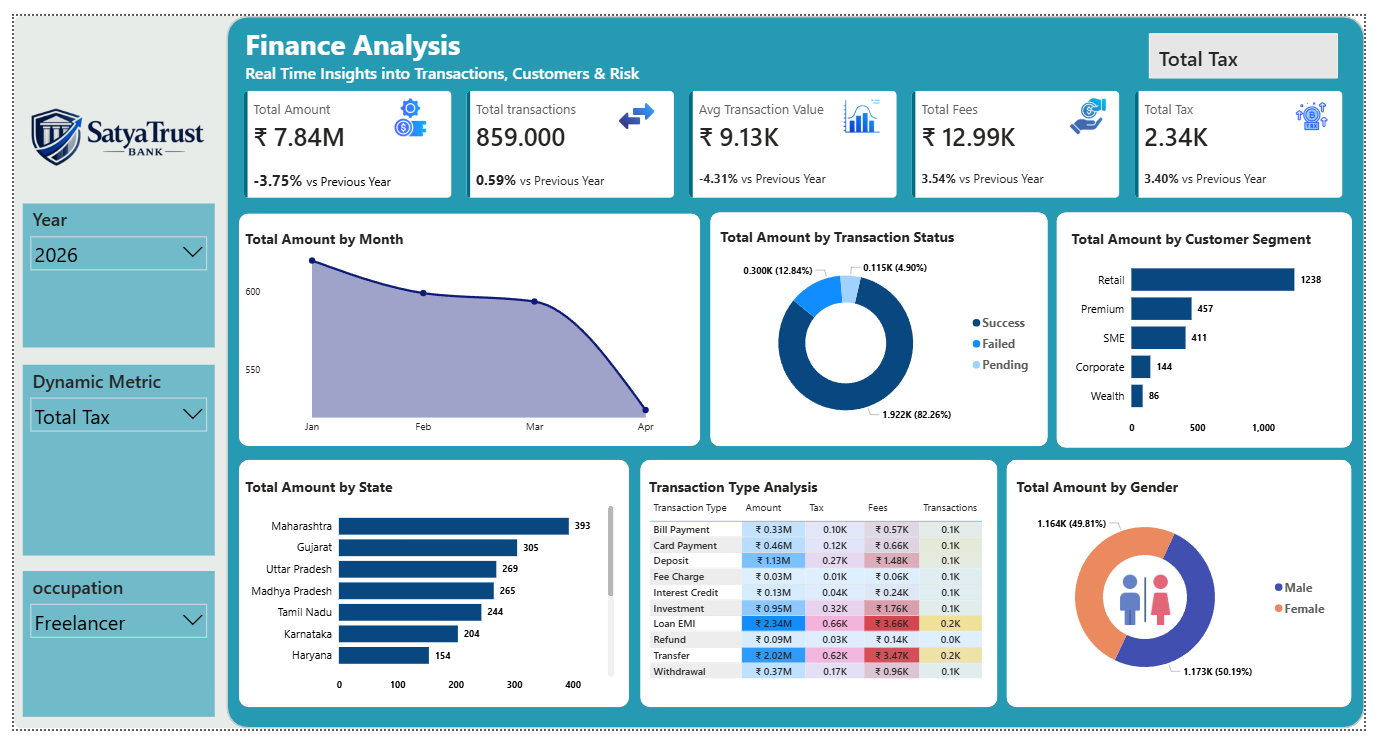

This screenshot's page, from the dashboard's own definition file:
{"tool":"powerbi","page":{"name":"Finance Analysis","canvas":[1800,950],"ordinal":0},"visuals":[{"type":"shape","box":[0,0,326,950],"z":0},{"type":"shape","box":[282.5,0,1517.5,950],"z":1000},{"type":"textbox","box":[304,6,578,88],"z":2000},{"type":"image","box":[12,6,250,306],"z":3000},{"type":"cardVisual","fields":{"Data":["finance_transactions.Total Amount","finance_transactions.Total transactions","finance_transactions.avg transaction value","finance_transactions.Total Fees","finance_transactions.Total Tax"]},"box":[300,93.8,1478.8,155],"z":4000},{"type":"slicer","fields":{"Values":["calender_table.year"]},"box":[11.7,250,255.8,191.7],"z":5000},{"type":"image","box":[504,110,50,50],"z":6000},{"type":"image","box":[804.2,108.2,50,50],"z":7000},{"type":"image","box":[1406,109.1,50,50],"z":8000},{"type":"image","box":[1705.1,109.1,50,50],"z":9000},{"type":"image","box":[1105.1,108.2,50,50],"z":10000},{"type":"slicer","fields":{"Values":["Dynamic Metric.Dynamic Metric"]},"box":[11.7,464.2,255.8,254.2],"z":11000},{"type":"shape","box":[300,262.5,615,310],"z":12000},{"type":"areaChart","title":"Total Amount by Month","fields":{"Y":["finance_transactions.Total Tax"],"Category":["calender_table.month"]},"box":[303.1,282.9,603.3,283.3],"z":13000},{"type":"shape","box":[928,262,450,312],"z":14000},{"type":"donutChart","title":"Total Amount by Transaction Status","fields":{"Y":["finance_transactions.Total Tax"],"Category":["finance_transactions.transaction_status"]},"box":[936,282,430,284],"z":15000},{"type":"shape","box":[1390,262,394,314],"z":16000},{"type":"barChart","title":"Total Amount by Customer Segment","fields":{"Y":["finance_transactions.Total Tax"],"Category":["customers.customer_segment"]},"box":[1405.1,283.6,364,284],"z":17000},{"type":"cardVisual","fields":{"Data":["finance_transactions.selected dynamic measure"]},"box":[1508,18,262,70],"z":18000},{"type":"shape","box":[300,591.7,520,330],"z":19000},{"type":"barChart","title":"Total Amount by State","fields":{"Y":["finance_transactions.Total Tax"],"Category":["customers.state"]},"box":[303.3,615,501.7,295],"z":20000},{"type":"shape","box":[835,591.2,476.2,330],"z":21000},{"type":"tableEx","title":"Transaction Type Analysis","fields":{"Values":["finance_transactions.transaction_type","finance_transactions.Total Amount","finance_transactions.Total Tax","finance_transactions.Total Fees","finance_transactions.Total transactions"]},"box":[841.7,615,463.3,295],"z":22000},{"type":"shape","box":[1323.3,591.7,460,330],"z":23000},{"type":"donutChart","title":"Total Amount by Gender","fields":{"Y":["finance_transactions.Total Tax"],"Category":["customers.gender"]},"box":[1331.7,615,430,295],"z":24000},{"type":"image","box":[1470,740,77.1,77.1],"z":25000},{"type":"slicer","fields":{"Values":["customers.occupation"]},"box":[11.7,740,255.8,194.2],"z":26000}]}

Visuals, with their boxes in screenshot pixels (x1, y1, x2, y2), scaled from the page's 1800x950 canvas onto the 1379x746 screenshot:
shape: rect(0, 0, 250, 745)
shape: rect(216, 0, 1378, 745)
textbox: rect(233, 5, 676, 74)
image: rect(9, 5, 201, 245)
cardVisual - finance_transactions.Total Amount x finance_transactions.Total transactions: rect(230, 74, 1363, 195)
slicer - calender_table.year: rect(9, 196, 205, 347)
image: rect(386, 86, 424, 126)
image: rect(616, 85, 654, 124)
image: rect(1077, 86, 1115, 125)
image: rect(1306, 86, 1345, 125)
image: rect(847, 85, 885, 124)
slicer - Dynamic Metric.Dynamic Metric: rect(9, 365, 205, 564)
shape: rect(230, 206, 701, 450)
"Total Amount by Month" areaChart: rect(232, 222, 694, 445)
shape: rect(711, 206, 1056, 451)
"Total Amount by Transaction Status" donutChart: rect(717, 221, 1047, 444)
shape: rect(1065, 206, 1367, 452)
"Total Amount by Customer Segment" barChart: rect(1076, 223, 1355, 446)
cardVisual - finance_transactions.selected dynamic measure: rect(1155, 14, 1356, 69)
shape: rect(230, 465, 628, 724)
"Total Amount by State" barChart: rect(232, 483, 617, 715)
shape: rect(640, 464, 1005, 723)
"Transaction Type Analysis" tableEx: rect(645, 483, 1000, 715)
shape: rect(1014, 465, 1366, 724)
"Total Amount by Gender" donutChart: rect(1020, 483, 1350, 715)
image: rect(1126, 581, 1185, 642)
slicer - customers.occupation: rect(9, 581, 205, 734)
